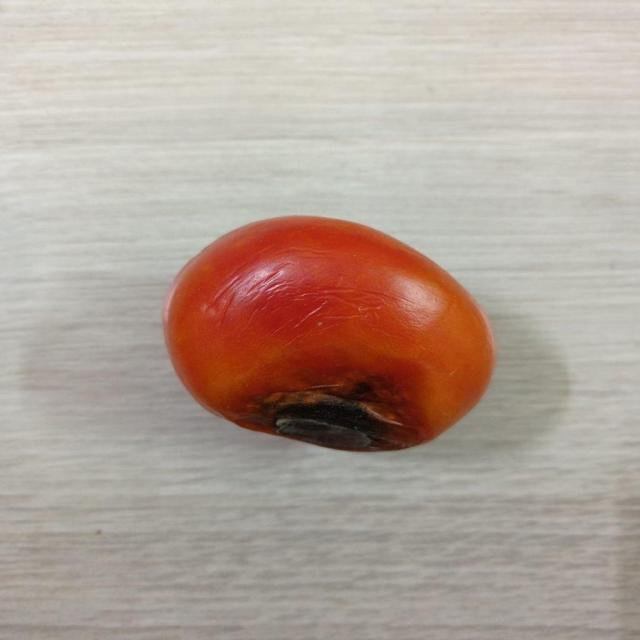Rotten: (164, 213, 491, 454)
